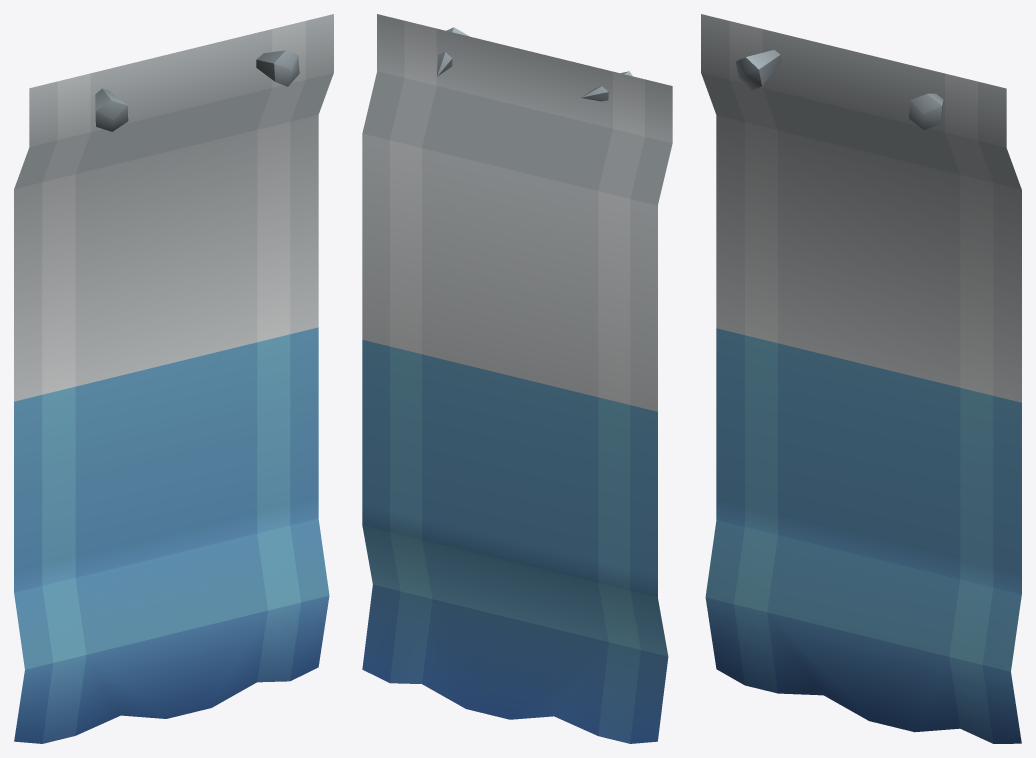
The model's file is banner_patternB_blue.gltf.
3 views of the same model, side by side, from view 1: azimuth 30°, elevation 25°; view 2: azimuth 150°, elevation 25°; view 3: azimuth 330°, elevation 25° (orthographic). The views are drawn at different scales.
Visible parts, largest first — view 1: banner_patternB_blue; view 2: banner_patternB_blue; view 3: banner_patternB_blue.
Boxes of the visible parts, x1,y1,x2,y2 form: banner_patternB_blue: [14, 14, 333, 743]; banner_patternB_blue: [362, 14, 672, 743]; banner_patternB_blue: [701, 14, 1021, 743].
Bounding box in the file's own units: 1.5 × 3.2 × 0.3119.
Materials: 1 (1 with a texture image).
